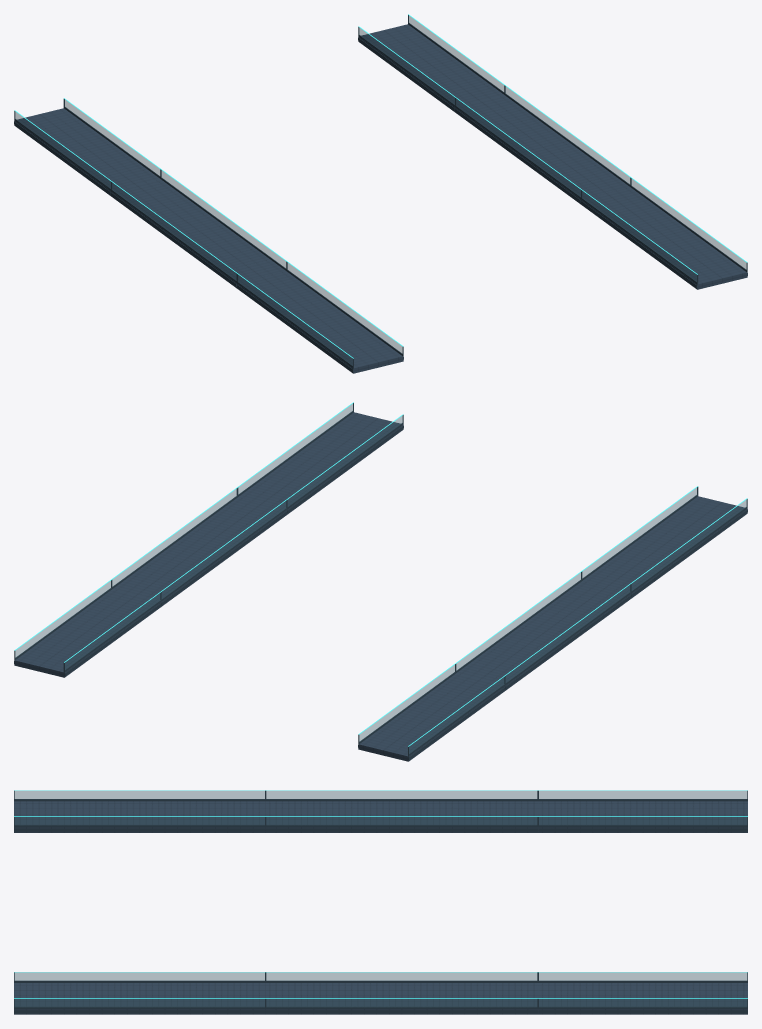
File: v02-detailed-00-04-coffered.glb
The picture shows the model from 3 angles, top to bottom: view 1: azimuth 30°, elevation 25°; view 2: azimuth 150°, elevation 25°; view 3: azimuth 270°, elevation 25°; orthographic projection. The views are drawn at different scales.
Parts seen in each view (by area): view 1: v02-detailed-00-04-coffered; view 2: v02-detailed-00-04-coffered; view 3: v02-detailed-00-04-coffered.
Boxes of the visible parts, x1,y1,x2,y2 form: v02-detailed-00-04-coffered: [14, 14, 747, 373]; v02-detailed-00-04-coffered: [14, 402, 747, 761]; v02-detailed-00-04-coffered: [14, 790, 747, 1014].
Size of the model in its own units: 47.1 by 1.77 by 70.
5 materials, 1 textured.
